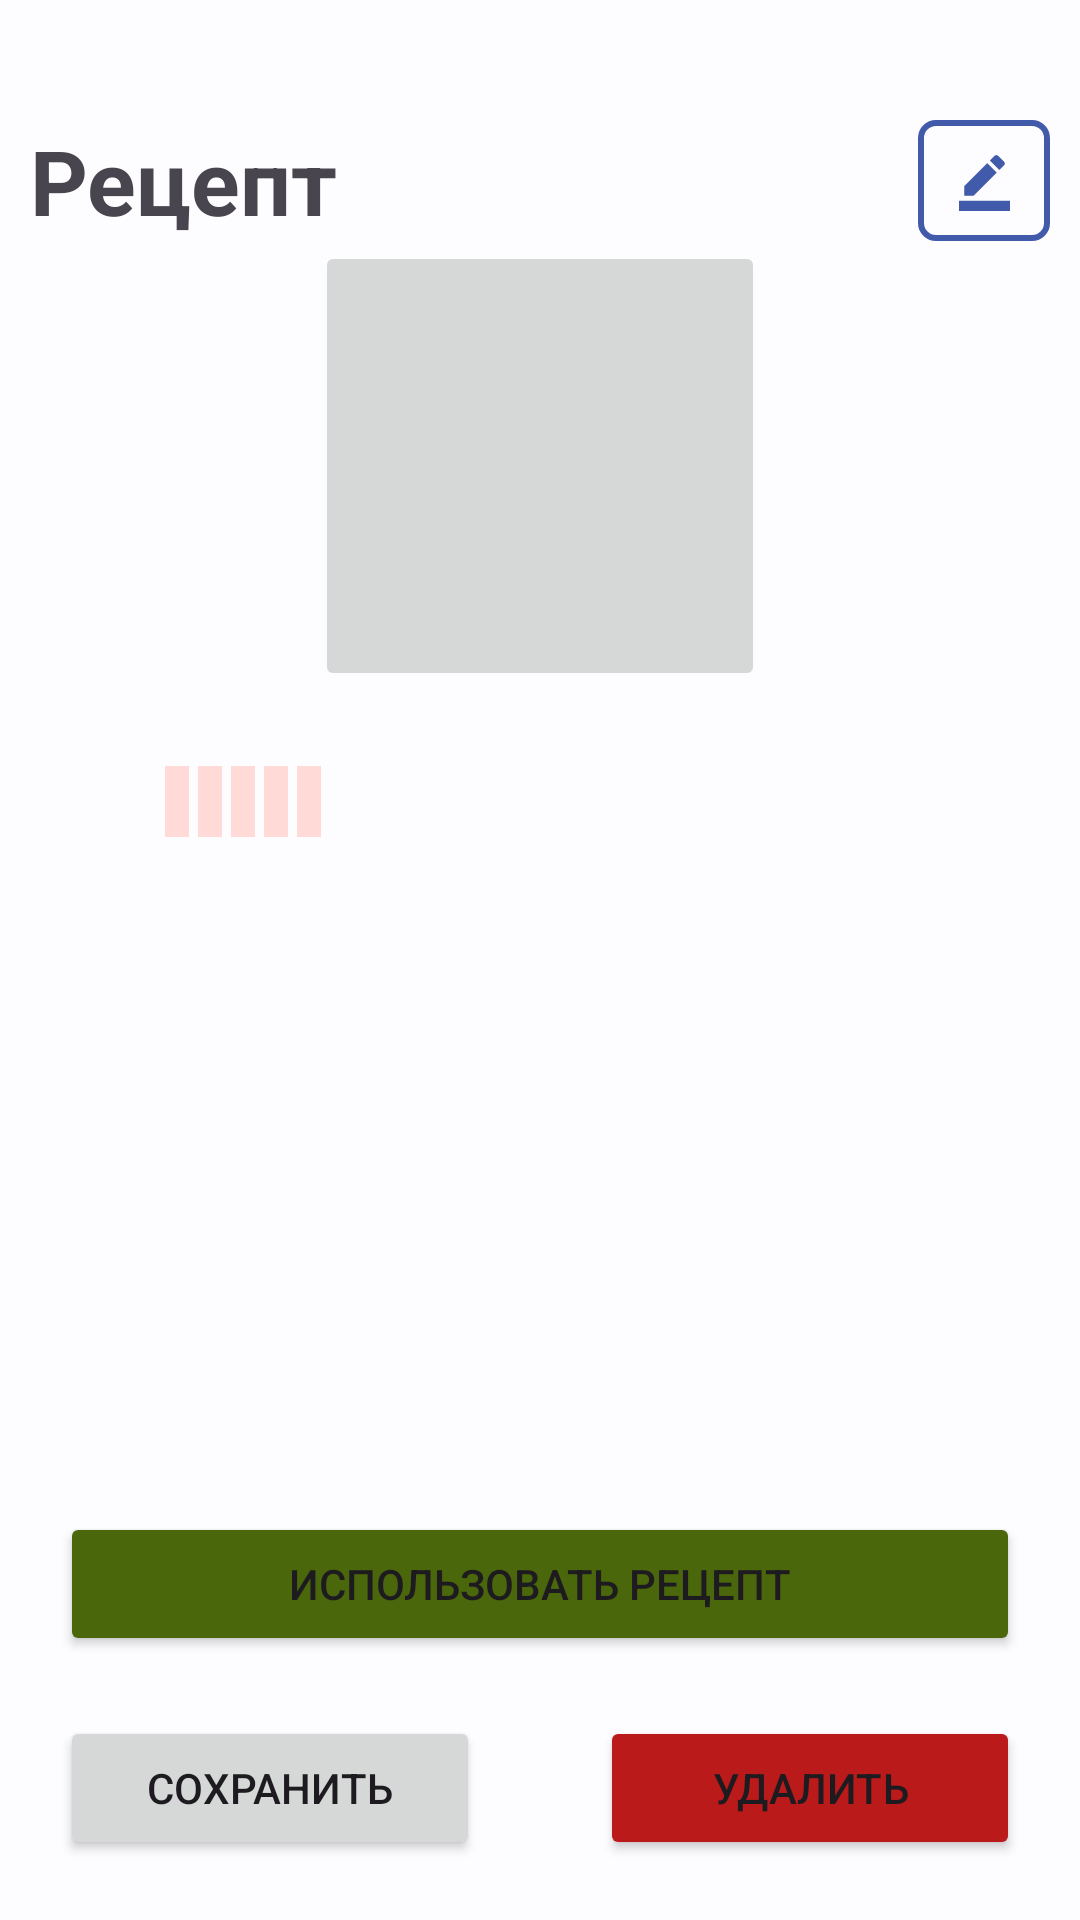

Locate icon controls on the screen. Image size 1080 × 1920, boxes as {"x1": x1, "y1": y1, "x2": x2, "y2": y2}.
edit: {"x1": 918, "y1": 120, "x2": 1050, "y2": 241}
